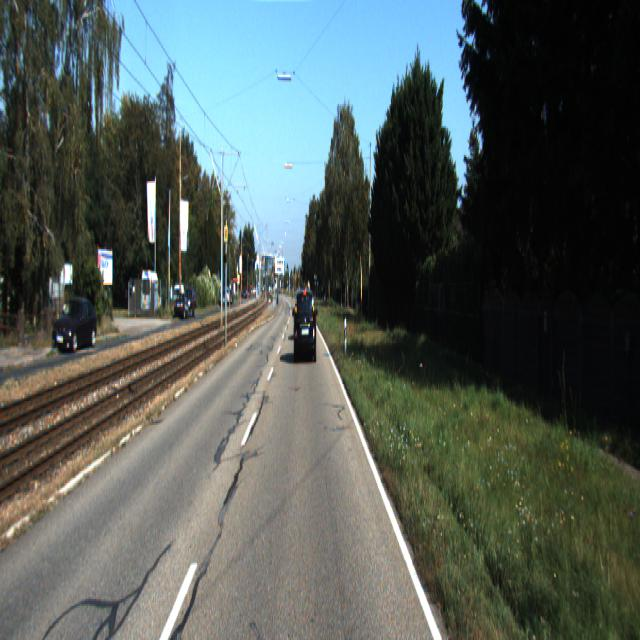Car: (54, 301, 97, 358), (295, 290, 317, 365), (140, 270, 162, 318), (174, 292, 192, 321)
